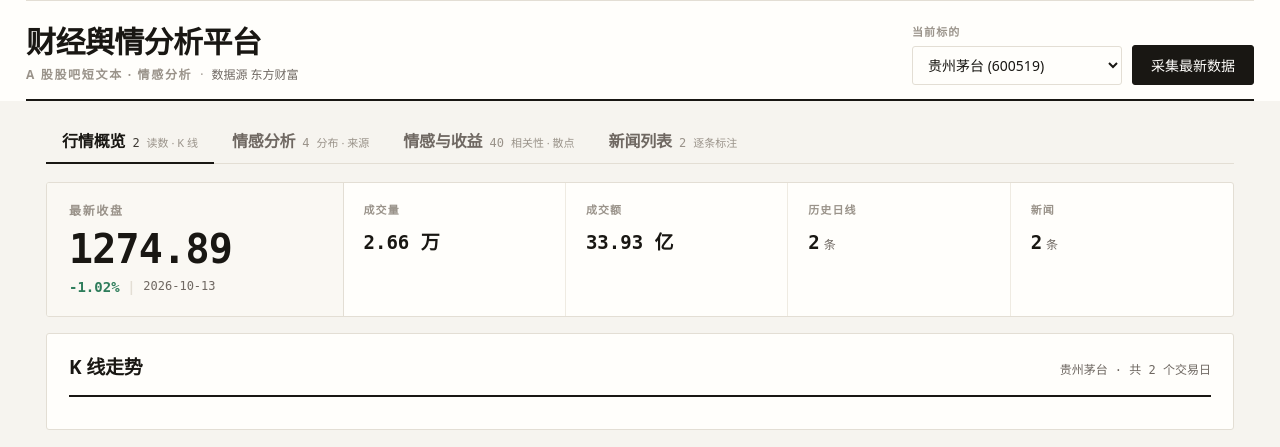
Test case: 情感分析面板 › 没有模型时提示先训练
The image size is (1280, 447).
Click the tab "情感分析 4 分布 · 来源".
click(301, 141)  # box [216,119,385,163]
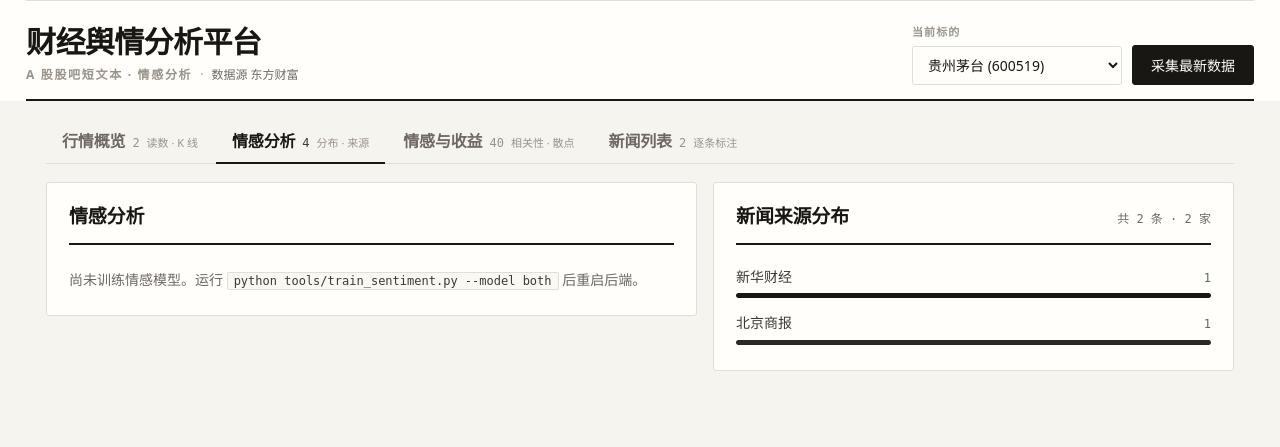
Check: the text "尚未训练情感模型" is shown, box [69,270,227,289]
